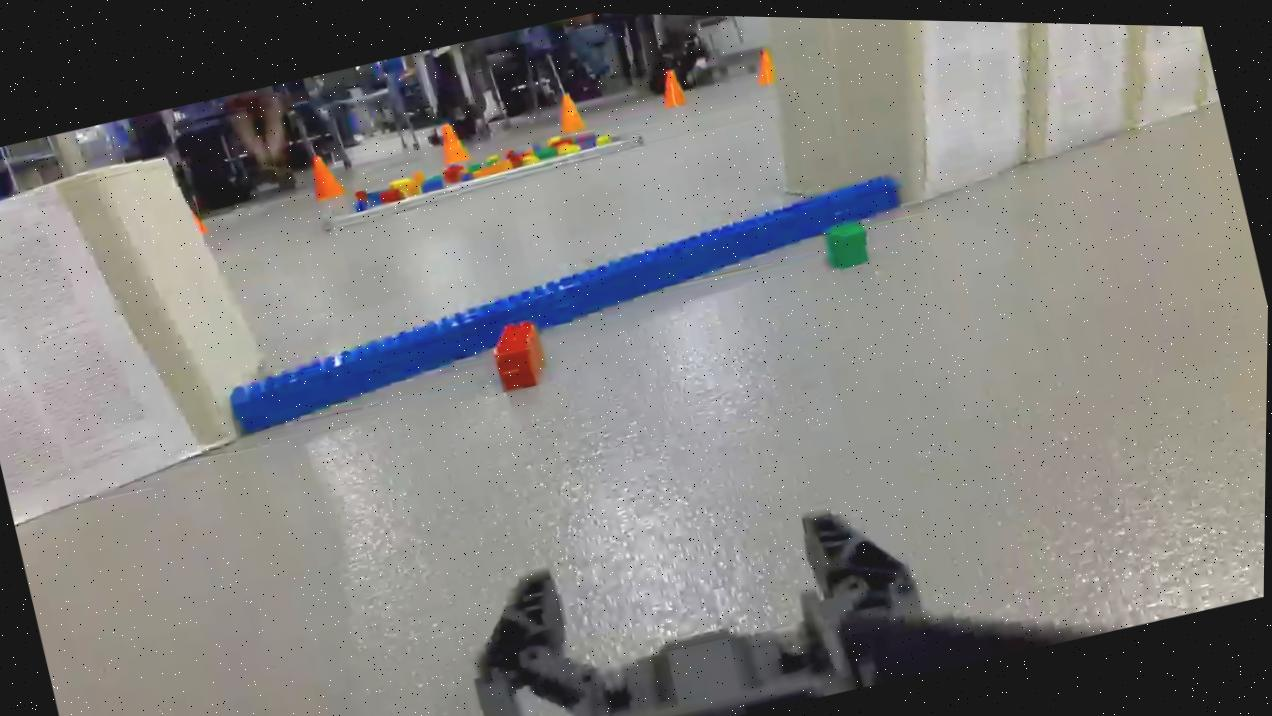2x2lego: (822, 213, 876, 270)
2x4lego: (485, 312, 555, 394)
